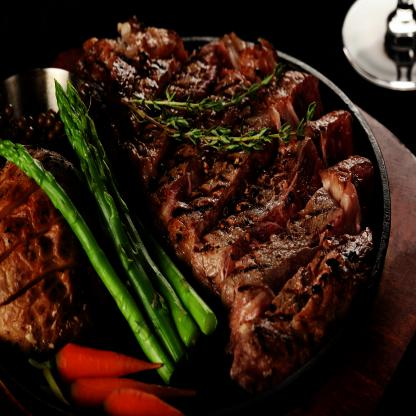Carne: (173, 71, 313, 221), (238, 225, 380, 367), (210, 108, 352, 232), (242, 152, 372, 272), (158, 142, 206, 203)
